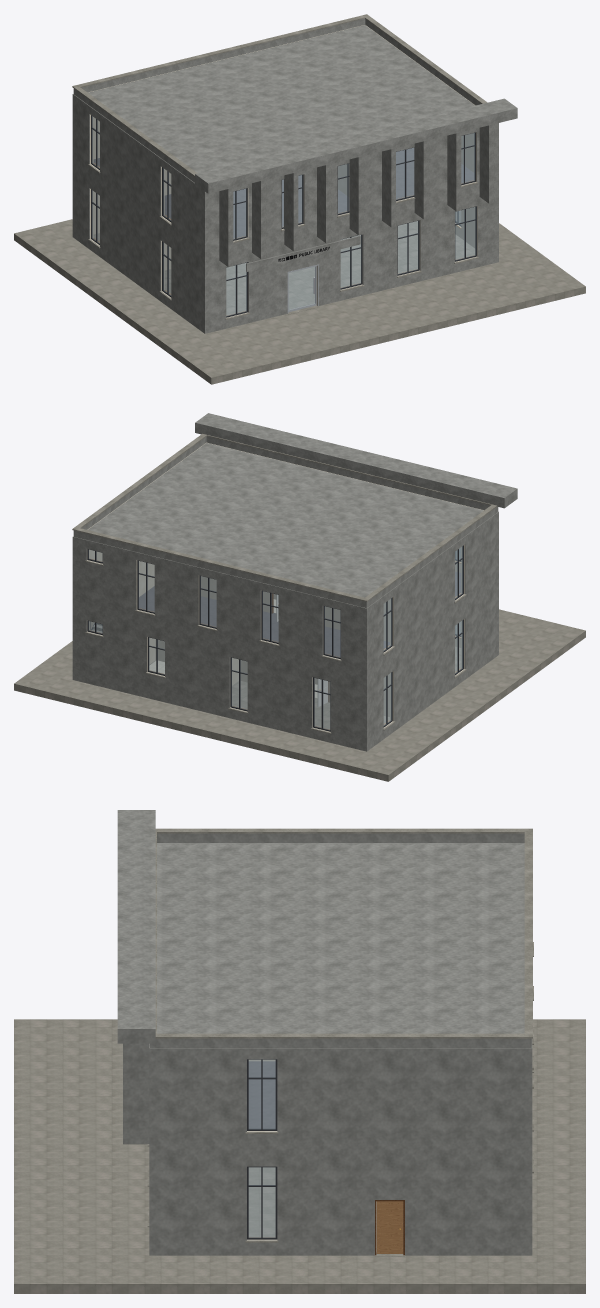
Rendered from b_library_brutalist.gltf.
3 views of the same model, one above another, from view 1: azimuth 30°, elevation 25°; view 2: azimuth 150°, elevation 25°; view 3: azimuth 270°, elevation 25° (orthographic). The views are drawn at different scales.
Visible parts, largest first — view 1: S_library_brutalist, D_library_brutalist_F1_S4_Door0; view 2: S_library_brutalist; view 3: S_library_brutalist, D_library_brutalist_F1_E1_Door0.
Boxes of the visible parts, x1,y1,x2,y2 form: S_library_brutalist: (14,14,585,384); D_library_brutalist_F1_S4_Door0: (288,266,316,311); S_library_brutalist: (14,413,585,781); S_library_brutalist: (14,810,585,1293); D_library_brutalist_F1_E1_Door0: (376,1201,403,1253).
Bounding box in the file's own units: 23 × 9.8 × 21.
17 materials, 9 textured.
